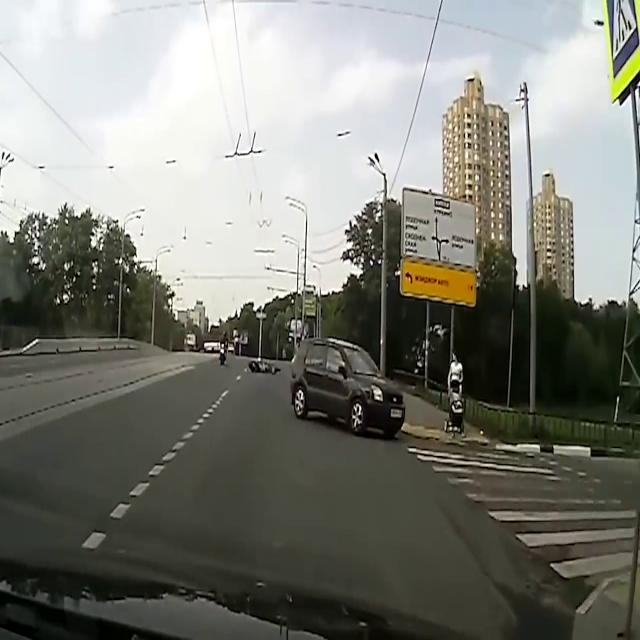normal: (281, 336, 421, 467)
single accident: (243, 350, 286, 389)
